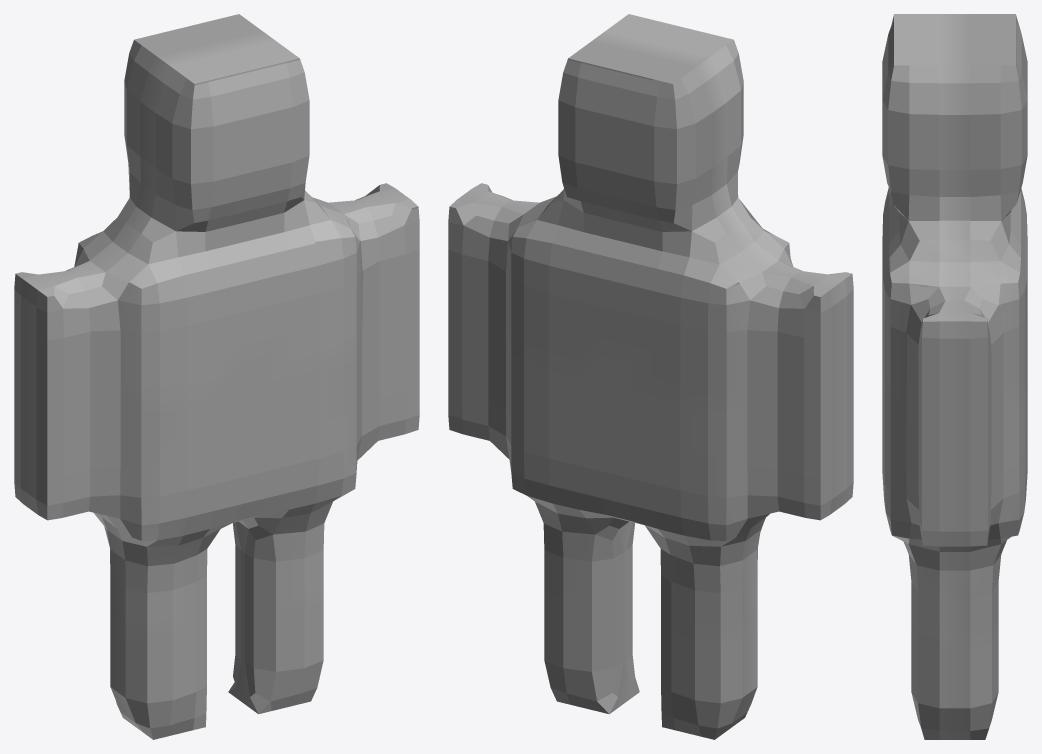
The model's file is cursedMonk.glb.
The picture shows the model from 3 angles, left to right: view 1: azimuth 30°, elevation 25°; view 2: azimuth 150°, elevation 25°; view 3: azimuth 270°, elevation 25°; orthographic projection.
Parts seen in each view (by area): view 1: geometry_0; view 2: geometry_0; view 3: geometry_0.
Part boxes in pixels (x1,y1,x2,y2): geometry_0: (14, 14, 419, 739); geometry_0: (448, 14, 853, 739); geometry_0: (882, 14, 1027, 739).
Size of the model in its own units: 0.597 by 1 by 0.199.
1 material, 1 textured.
